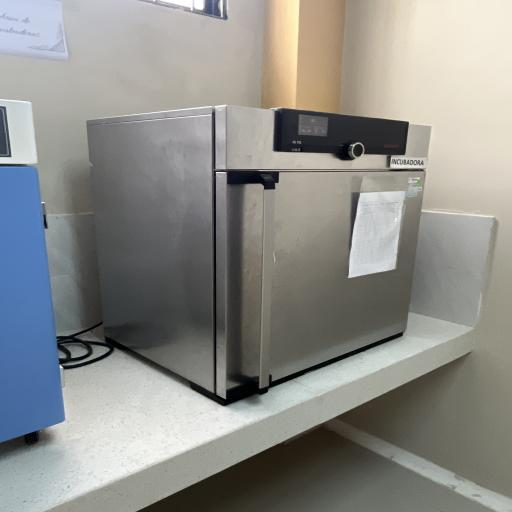Incubadora: (75, 98, 443, 418)
